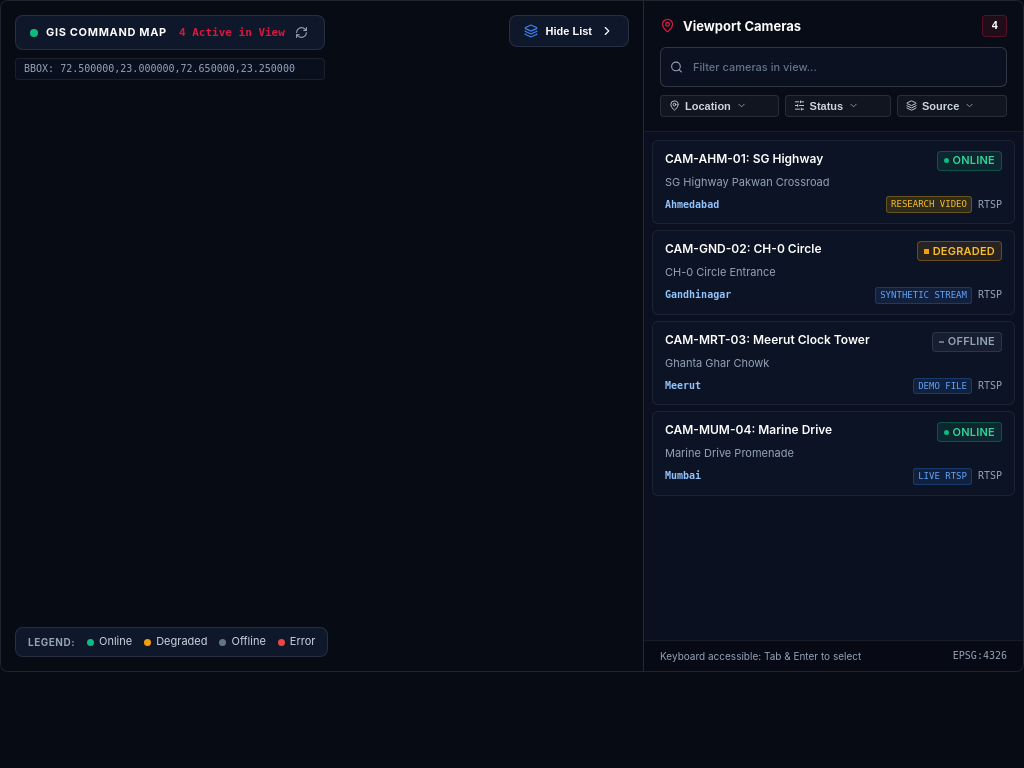
GIS Camera Map Component (Phase 4B) › Scalable Dynamic Filter Architecture › supports search filtering within the location dropdown
This screenshot has width=1024, height=768.
expect the text "CAM-AHM-01: SG Highway" is shown: met, box [665, 151, 823, 166]
// Open location dropdown
Click the button with id "gis-filter-dropdown-location".
click(719, 106)  # box [660, 95, 779, 117]
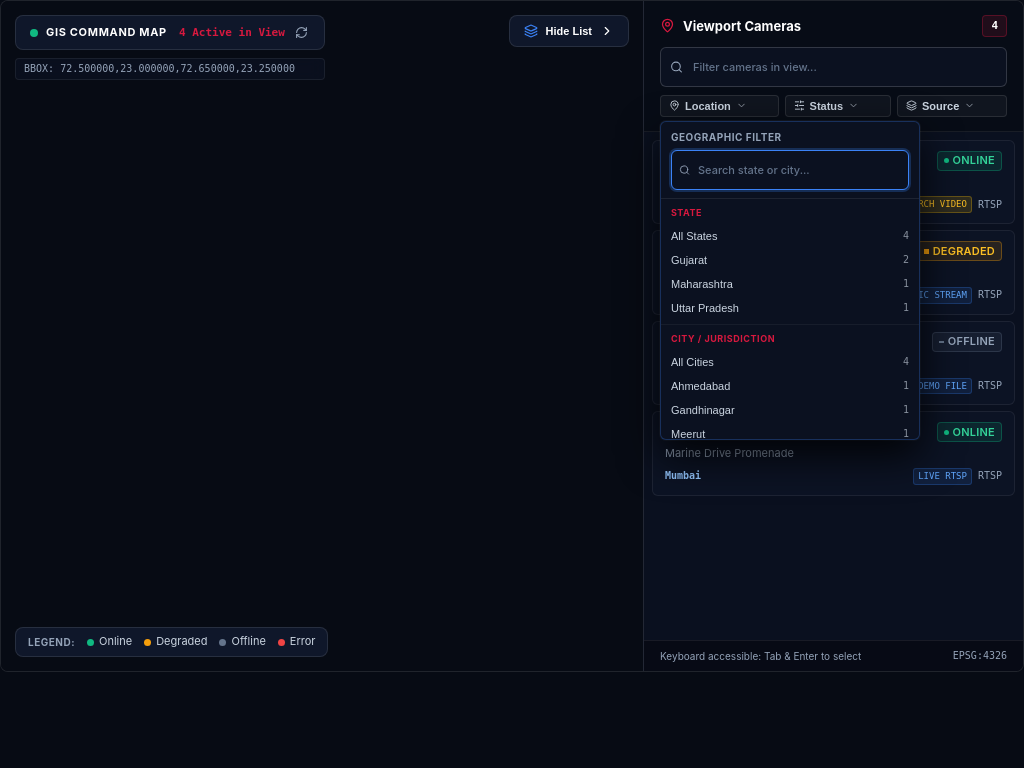
// Find search input inside location menu
Type "Mee" into the field with placeholder "Search state or city...".
click(790, 170); type("Mee")  # box [671, 150, 909, 190]
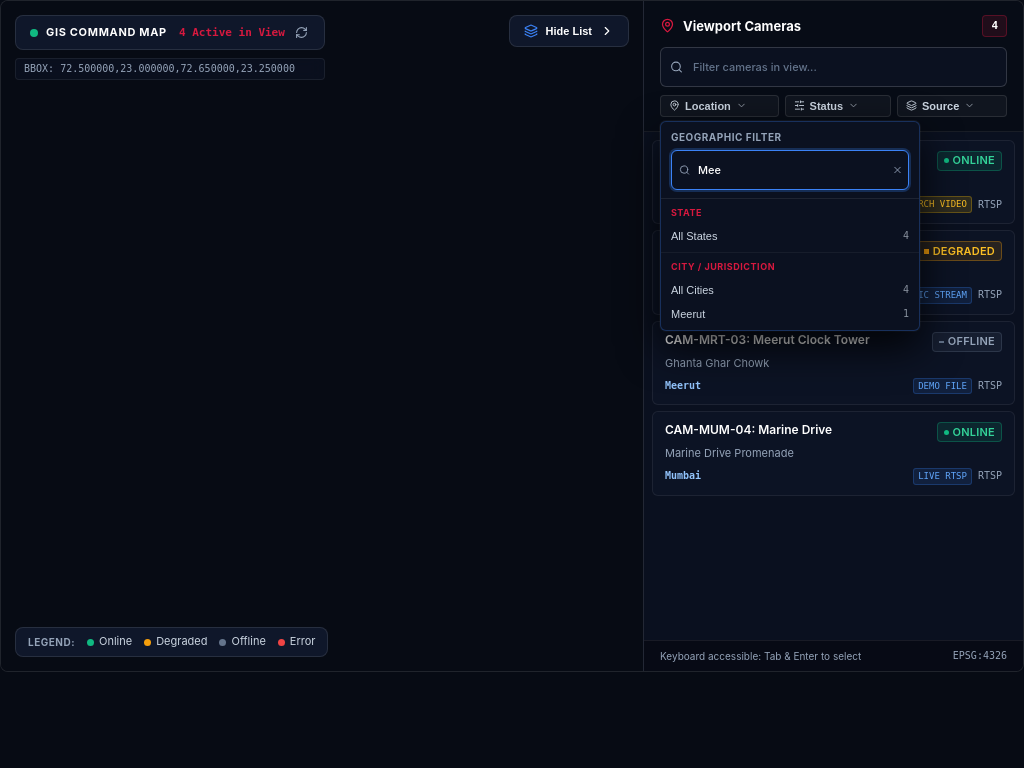
expect the button with id "gis-filter-city-meerut" is shown: met, box [661, 302, 919, 326]
expect the button with id "gis-filter-city-ahmedabad" is gone: met
expect the button with id "gis-filter-city-gandhinagar" is gone: met
